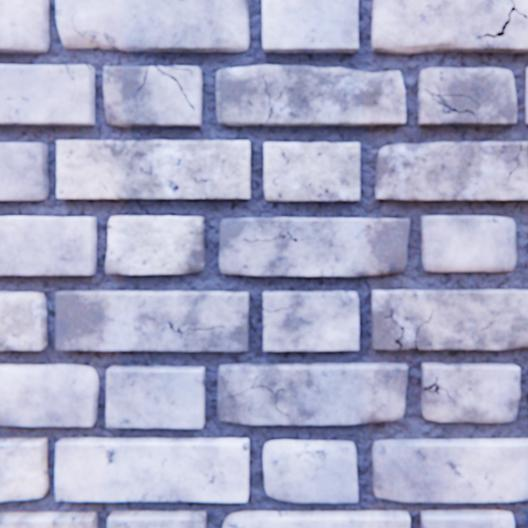brick: (56, 437, 249, 501), (218, 363, 407, 424), (57, 290, 249, 350), (220, 217, 409, 276), (216, 66, 405, 125), (58, 141, 250, 199), (57, 0, 249, 52), (372, 438, 527, 501), (371, 289, 527, 349), (375, 142, 527, 200), (371, 0, 527, 54), (107, 365, 205, 427), (0, 364, 99, 425), (263, 439, 357, 501), (104, 67, 202, 126), (421, 362, 519, 421), (0, 65, 95, 125), (107, 216, 205, 274), (418, 68, 516, 126), (263, 291, 358, 350), (0, 217, 97, 274), (264, 143, 359, 201), (421, 216, 515, 271), (263, 0, 357, 53), (223, 510, 409, 527), (0, 437, 49, 500), (0, 143, 50, 200), (0, 291, 48, 350), (0, 0, 50, 53), (420, 509, 513, 527), (108, 510, 206, 527), (0, 511, 97, 527), (511, 0, 527, 17), (525, 68, 527, 124)
crack: (474, 0, 527, 38), (243, 375, 288, 415), (156, 67, 195, 110), (423, 89, 479, 115), (262, 76, 286, 122), (409, 309, 433, 348), (383, 307, 403, 349), (423, 376, 452, 398), (167, 321, 186, 338), (137, 67, 149, 92), (73, 15, 84, 37), (278, 231, 297, 241), (67, 66, 76, 87), (188, 325, 217, 329), (166, 67, 192, 71), (263, 307, 288, 311), (516, 142, 521, 161), (243, 238, 271, 241), (526, 143, 527, 158)
